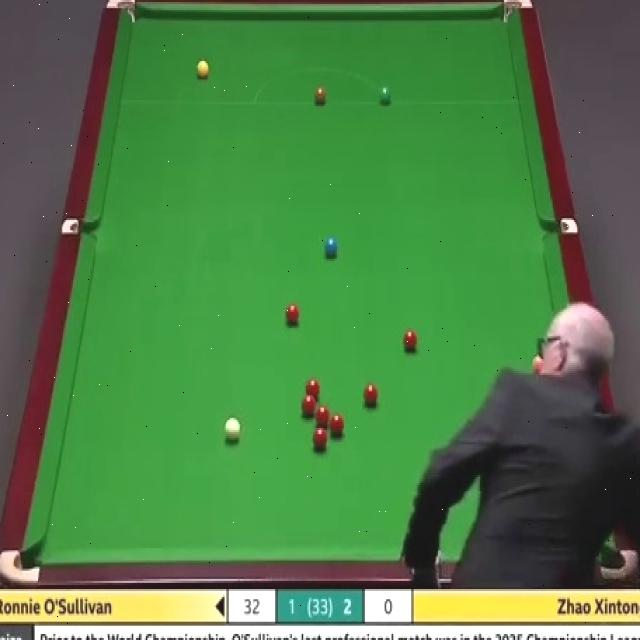blue-ball: (325, 237, 337, 260)
brown-ball: (314, 88, 327, 106)
green-ball: (379, 86, 391, 106)
pink-ball: (533, 356, 545, 373)
red-ball: (284, 300, 301, 326), (403, 327, 419, 352), (312, 427, 327, 452), (364, 384, 379, 408), (300, 394, 317, 415), (314, 406, 330, 428), (304, 378, 320, 400), (330, 413, 344, 437)
white-ball: (225, 418, 241, 442)
yellow-ball: (196, 61, 211, 82)
